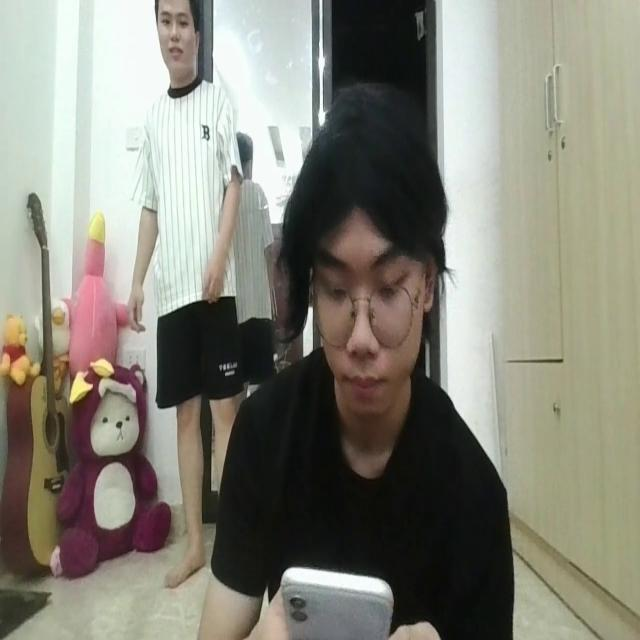extra_person: (118, 0, 251, 555)
phone: (278, 555, 396, 640)
student: (218, 82, 514, 640)
